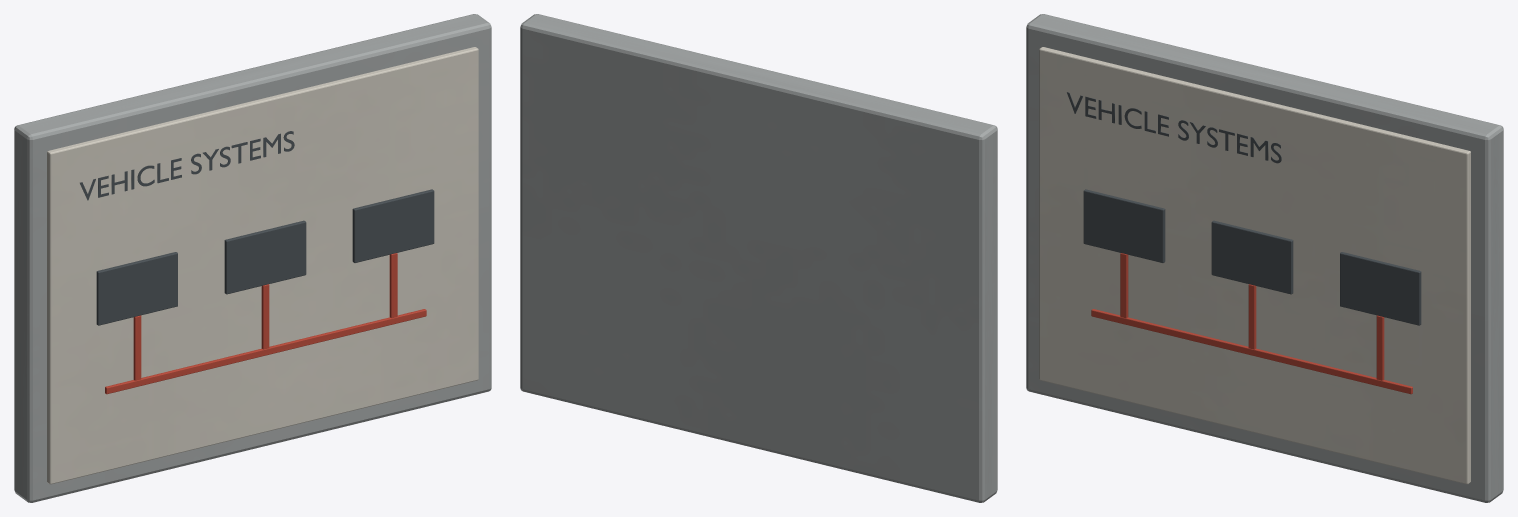
File: technical_wall_diagram.glb
3 renders of one model, left to right at view 1: azimuth 30°, elevation 25°; view 2: azimuth 150°, elevation 25°; view 3: azimuth 330°, elevation 25°, orthographic.
Visible parts, largest first — view 1: Panel, Frame.004, DiagramBlock.001, DiagramBlock.002, DiagramBlock, BusLine, LABEL_VEHICLE_SYSTEMS, DiagramLink.001, DiagramLink.002, DiagramLink; view 2: Frame.004; view 3: Panel, Frame.004, DiagramBlock.001, DiagramBlock, DiagramBlock.002, BusLine, LABEL_VEHICLE_SYSTEMS, DiagramLink, DiagramLink.001, DiagramLink.002.
Part boxes in pixels (x1=…): Panel: x1=47, y1=47, x2=478, y2=484; Frame.004: x1=14, y1=14, x2=491, y2=502; DiagramBlock.001: x1=224, y1=220, x2=306, y2=294; DiagramBlock.002: x1=352, y1=189, x2=434, y2=262; DiagramBlock: x1=96, y1=252, x2=177, y2=325; BusLine: x1=105, y1=309, x2=426, y2=394; LABEL_VEHICLE_SYSTEMS: x1=80, y1=131, x2=294, y2=200; DiagramLink.001: x1=261, y1=284, x2=269, y2=349; DiagramLink.002: x1=389, y1=253, x2=397, y2=318; DiagramLink: x1=133, y1=315, x2=141, y2=380; Frame.004: x1=520, y1=14, x2=997, y2=502; Panel: x1=1039, y1=47, x2=1470, y2=484; Frame.004: x1=1026, y1=14, x2=1503, y2=502; DiagramBlock.001: x1=1211, y1=220, x2=1293, y2=294; DiagramBlock: x1=1083, y1=189, x2=1165, y2=262; DiagramBlock.002: x1=1340, y1=252, x2=1421, y2=325; BusLine: x1=1091, y1=309, x2=1412, y2=394; LABEL_VEHICLE_SYSTEMS: x1=1067, y1=92, x2=1281, y2=163; DiagramLink: x1=1120, y1=253, x2=1128, y2=318; DiagramLink.001: x1=1248, y1=284, x2=1256, y2=349; DiagramLink.002: x1=1376, y1=315, x2=1384, y2=380.
Size of the model in its own units: 1.45 by 1.1 by 0.119.
4 materials, 3 textured.
